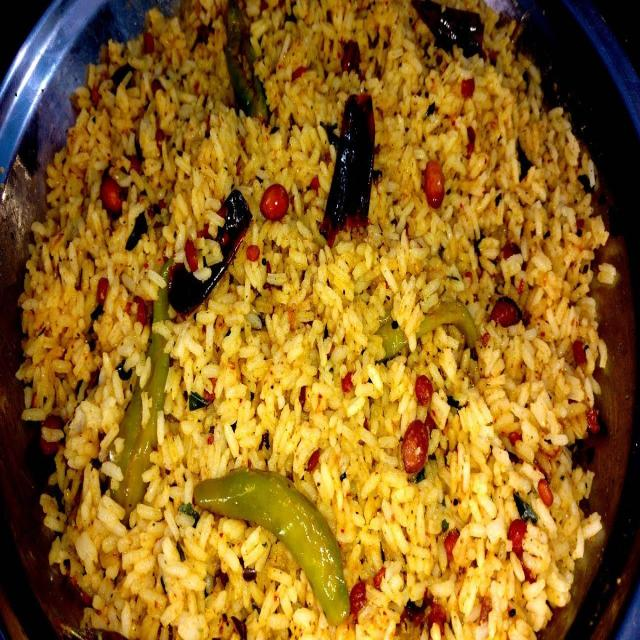puliyogare: (12, 0, 625, 640)
